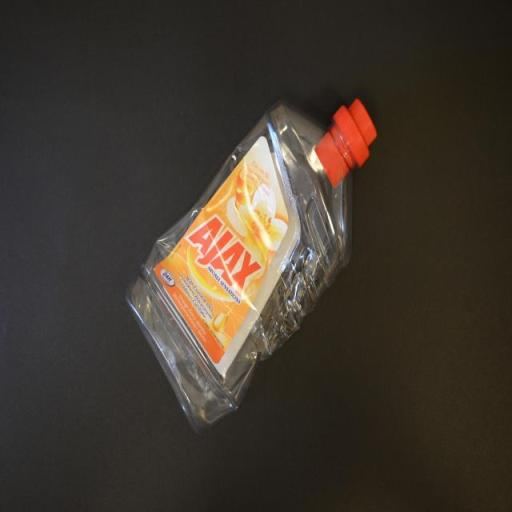plastic: (124, 101, 380, 434)
